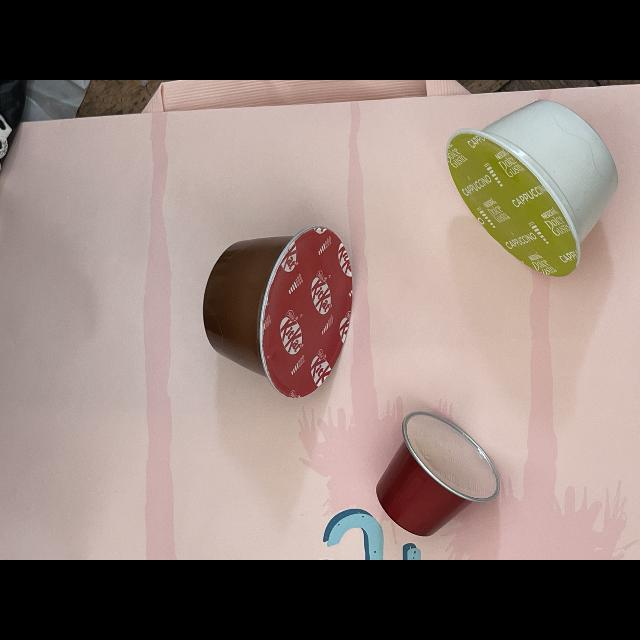intact_capsule: (442, 92, 640, 292), (198, 219, 370, 403), (366, 402, 506, 546)
